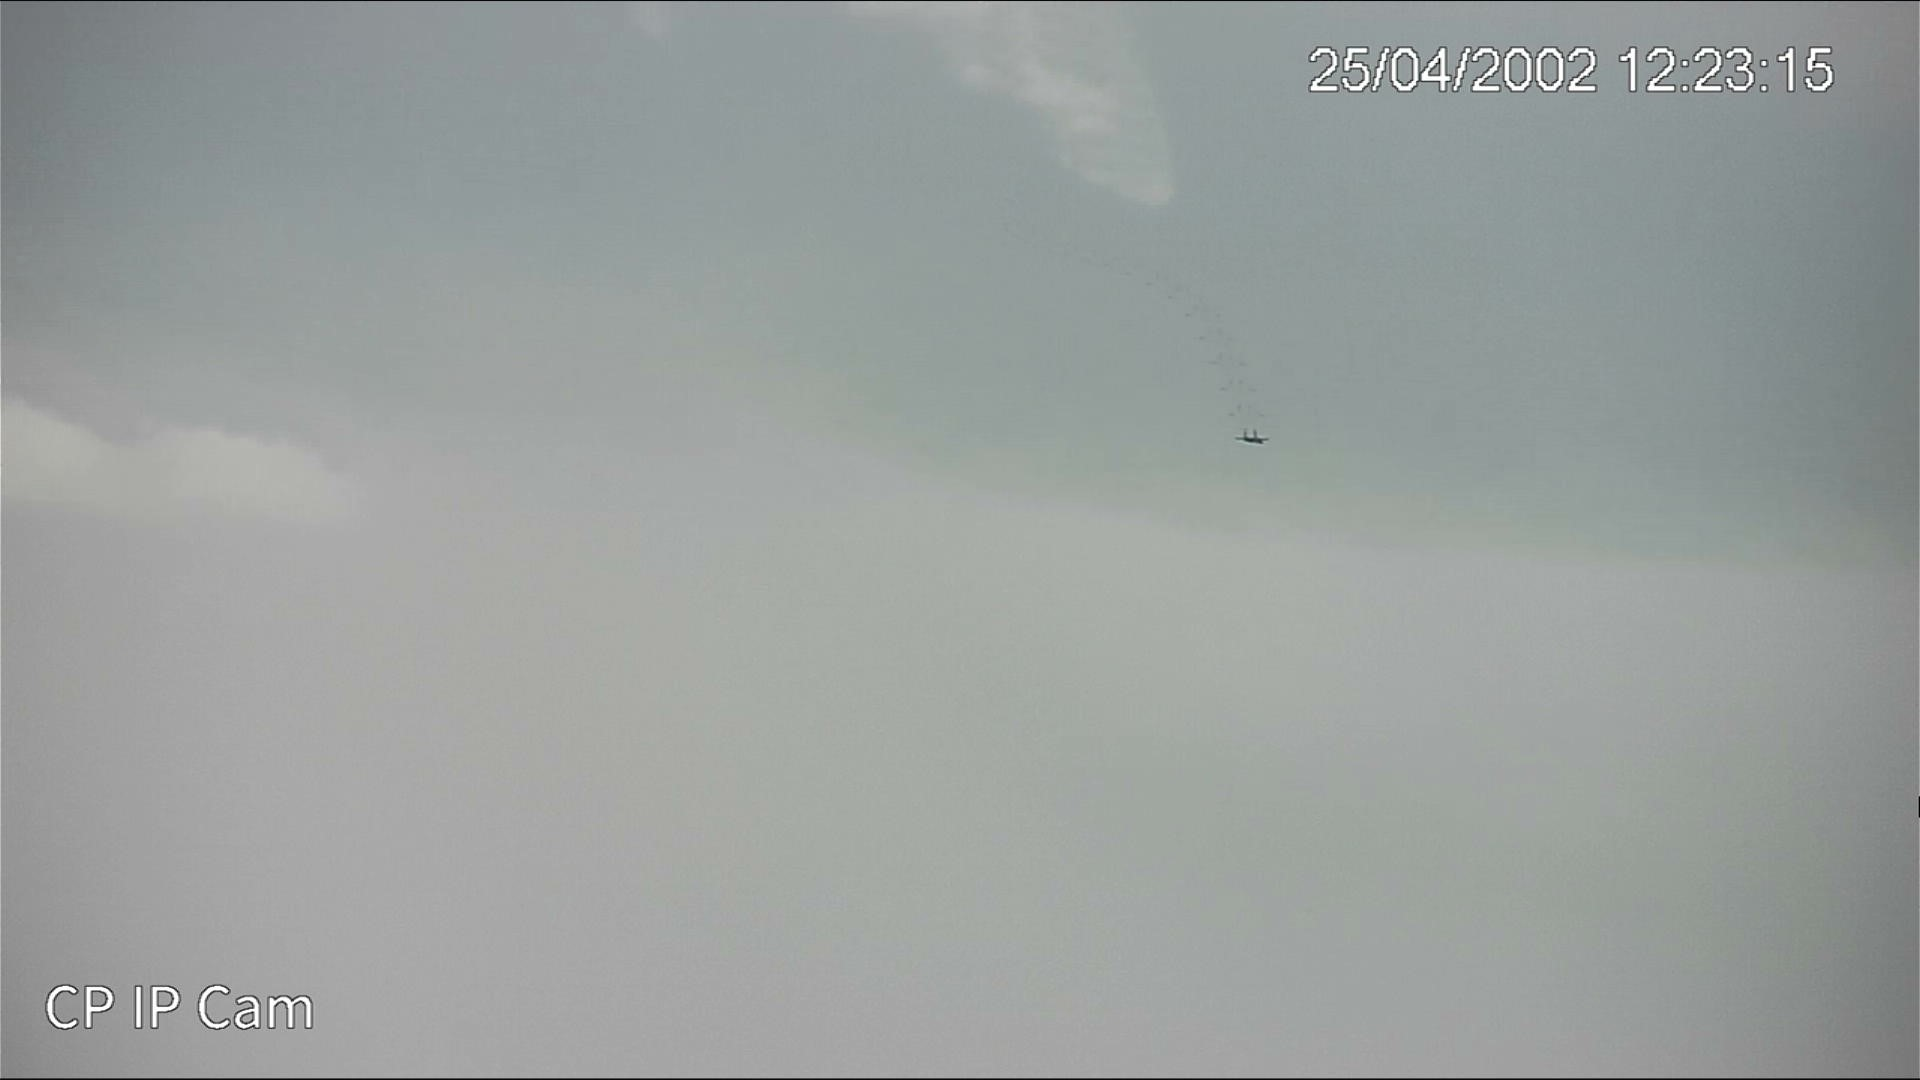SU_30: (1232, 429, 1271, 444)
